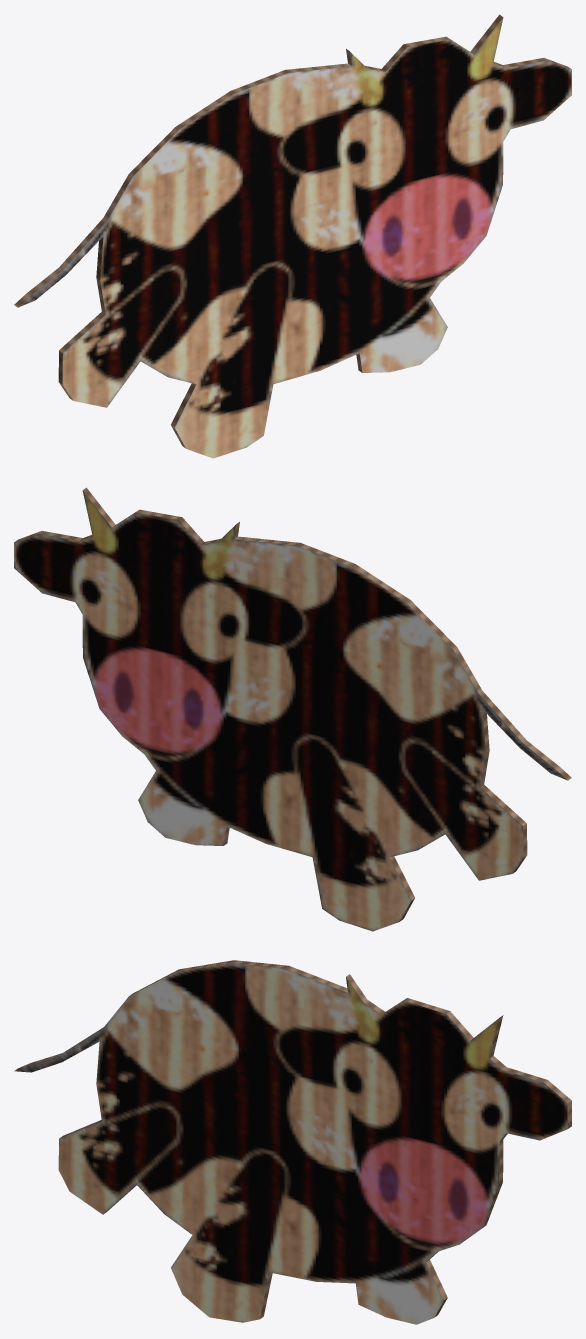
The model's file is SM_Cow.fbx.
The picture shows the model from 3 angles, top to bottom: view 1: azimuth 30°, elevation 25°; view 2: azimuth 150°, elevation 25°; view 3: azimuth 330°, elevation 25°; orthographic projection.
Visible parts, largest first — view 1: SM_Cow; view 2: SM_Cow; view 3: SM_Cow.
Part boxes in pixels (left/top/right/bottom): SM_Cow: left=14, top=14, right=571, bottom=458; SM_Cow: left=14, top=487, right=571, bottom=931; SM_Cow: left=14, top=960, right=571, bottom=1324.
Bounding box in the file's own units: 815 × 526 × 9.95.
